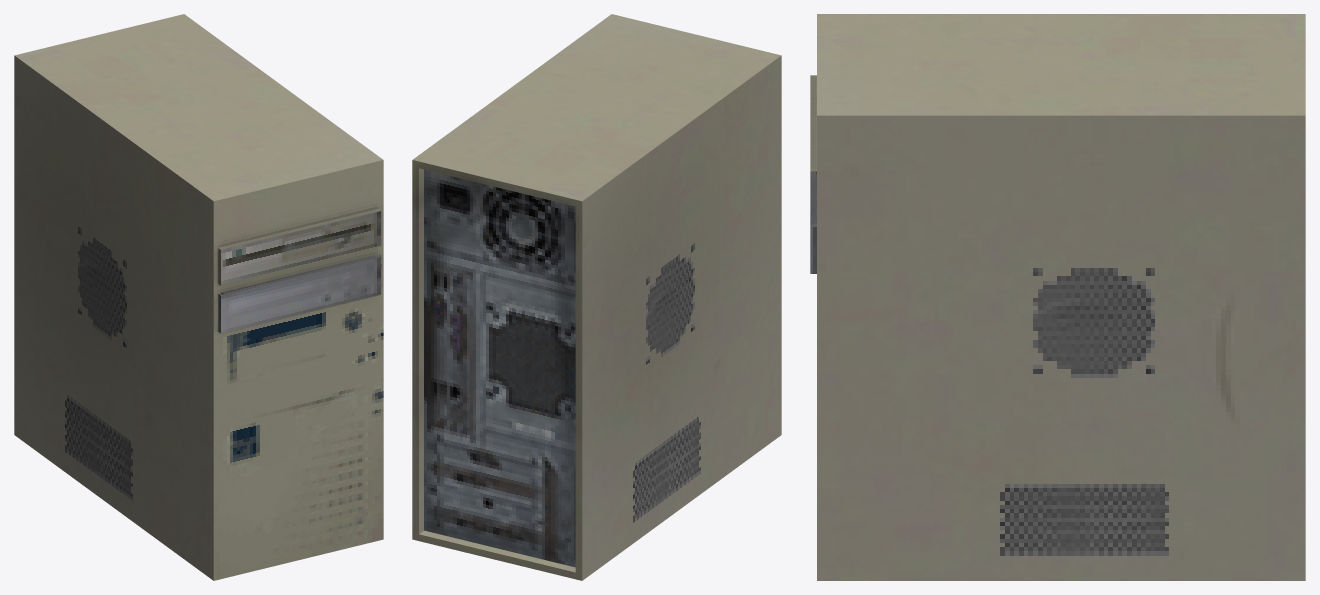
Rendered from Computer Tower.glb.
3 renders of one model, left to right at view 1: azimuth 30°, elevation 25°; view 2: azimuth 150°, elevation 25°; view 3: azimuth 270°, elevation 25°, orthographic. The views are drawn at different scales.
Visible parts, largest first — view 1: PC Tower; view 2: PC Tower; view 3: PC Tower.
Boxes of the visible parts, box(x1,y1,x2,y2) form: PC Tower: box(14, 14, 383, 580); PC Tower: box(412, 14, 781, 580); PC Tower: box(810, 14, 1305, 580).
Bounding box in the file's own units: 0.321 × 0.6855 × 0.6614.
Materials: 1 (1 with a texture image).
